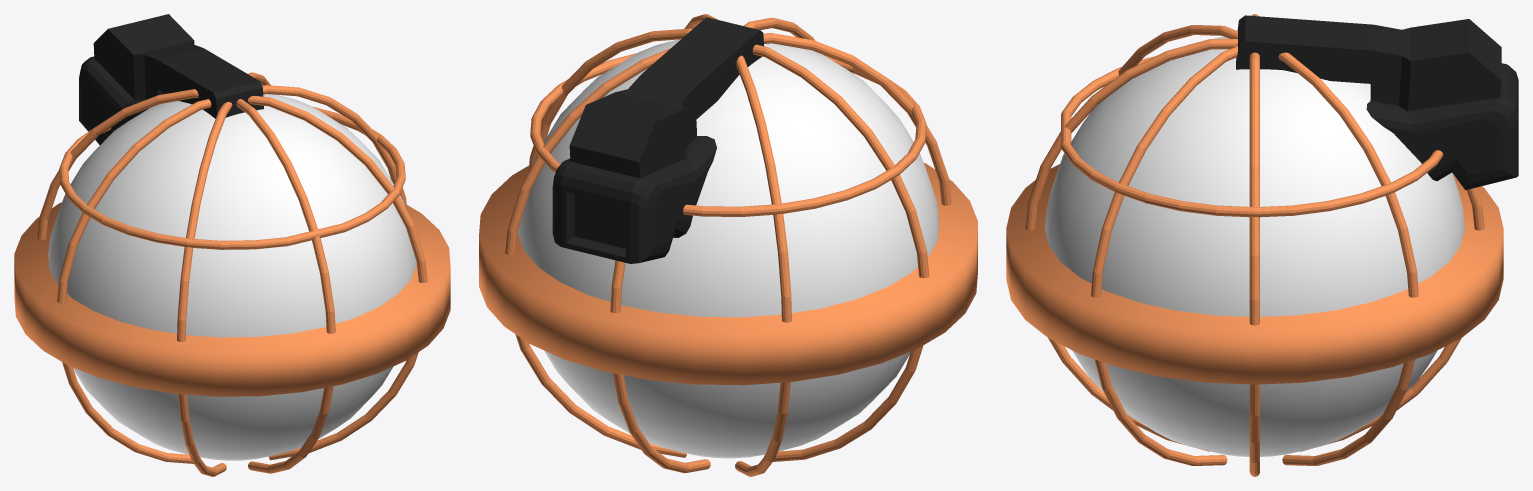
The model's file is SphericalTurretMesh.fbx.
The picture shows the model from 3 angles, left to right: view 1: azimuth 30°, elevation 25°; view 2: azimuth 150°, elevation 25°; view 3: azimuth 270°, elevation 25°; orthographic projection. The views are drawn at different scales.
Parts seen in each view (by area): view 1: Ball, Grip, Framework, Cube; view 2: Ball, Grip, Cube, Framework; view 3: Ball, Grip, Cube, Framework.
Part boxes in pixels (bbox=[...]): Ball: bbox=[48, 94, 416, 460]; Grip: bbox=[14, 202, 450, 396]; Framework: bbox=[37, 72, 427, 476]; Cube: bbox=[79, 14, 263, 144]; Ball: bbox=[517, 39, 939, 458]; Grip: bbox=[479, 163, 977, 385]; Cube: bbox=[552, 17, 763, 263]; Framework: bbox=[505, 14, 951, 476]; Ball: bbox=[1045, 36, 1464, 456]; Grip: bbox=[1006, 164, 1503, 384]; Cube: bbox=[1236, 15, 1518, 190]; Framework: bbox=[1025, 14, 1484, 476].
Bounding box in the file's own units: 88 × 82.58 × 90.68.
